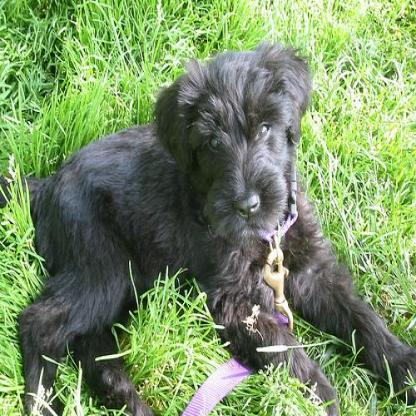briard: (17, 45, 414, 412)
